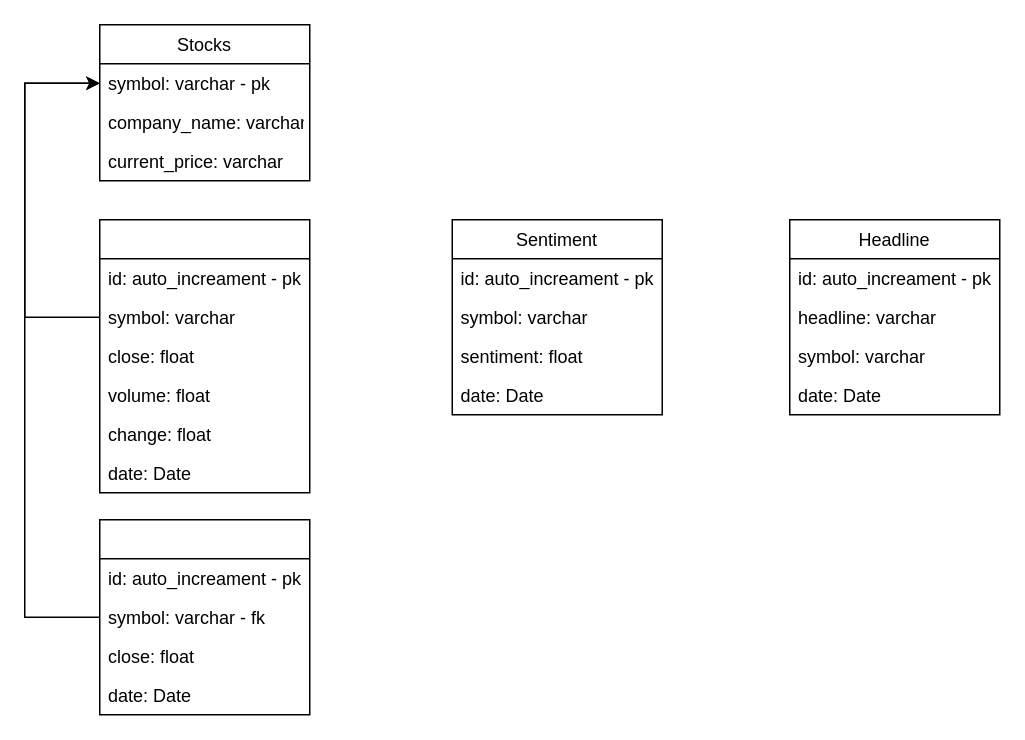
Image size: 1025x740. Some labels were removed from this diagram. Here are the shapes that lost their labels. From the top down, the box of each, then its label:
(98, 218, 310, 493): Price
(98, 518, 310, 715): Predection
